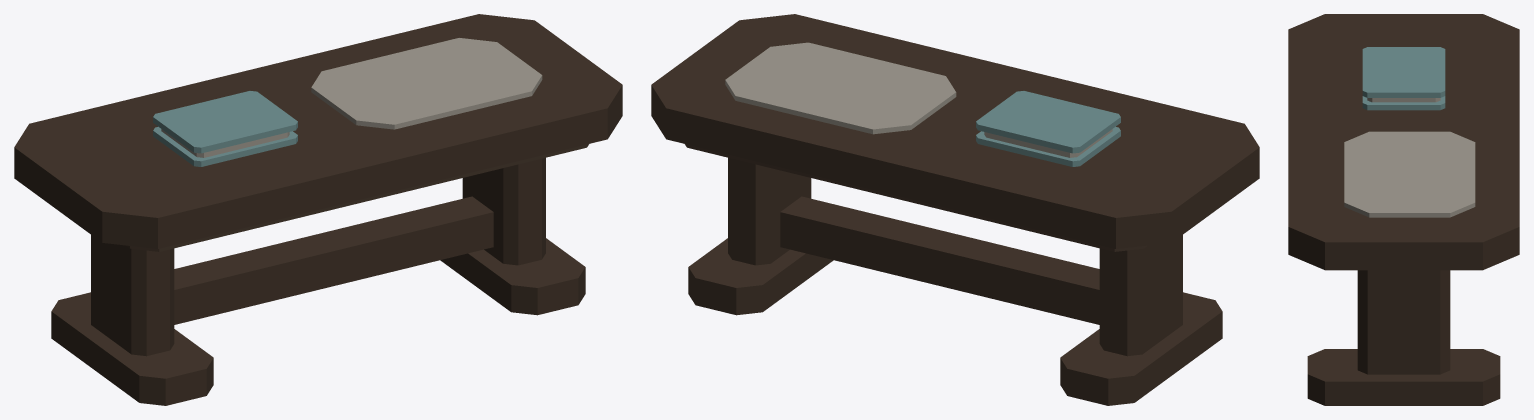
File: archive_table.glb
3 views of the same model, side by side, from view 1: azimuth 30°, elevation 25°; view 2: azimuth 150°, elevation 25°; view 3: azimuth 270°, elevation 25° (orthographic). The views are drawn at different scales.
Parts seen in each view (by area): view 1: archive_table_Static; view 2: archive_table_Static; view 3: archive_table_Static.
Part boxes in pixels (x1,y1,x2,y2): archive_table_Static: (14,14,622,405); archive_table_Static: (651,14,1259,405); archive_table_Static: (1288,14,1519,405).
Bounding box in the file's own units: 2.8 × 1.13 × 1.2.
